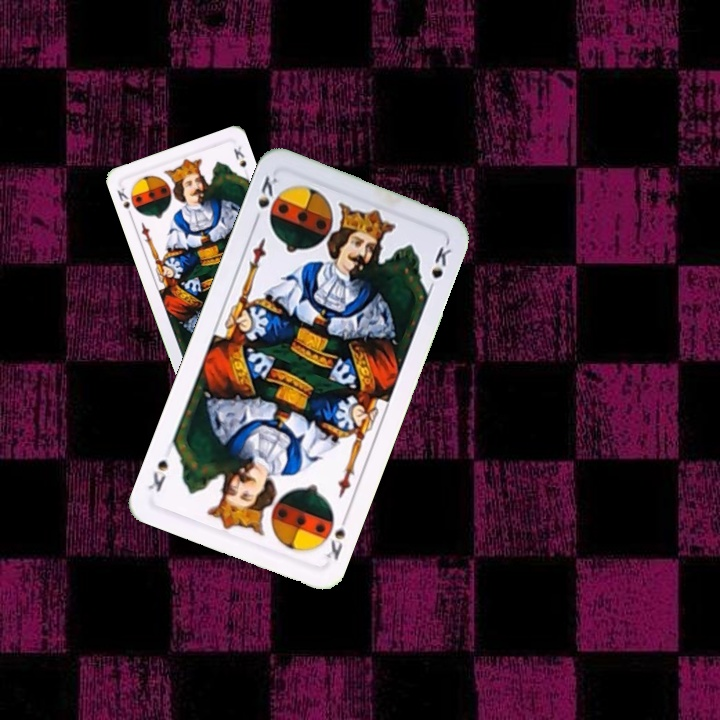SK: (249, 170, 281, 227), (320, 509, 352, 563), (113, 184, 135, 221)
